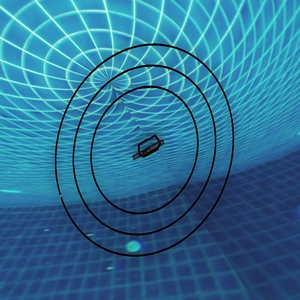submarine: (136, 139, 162, 160)
